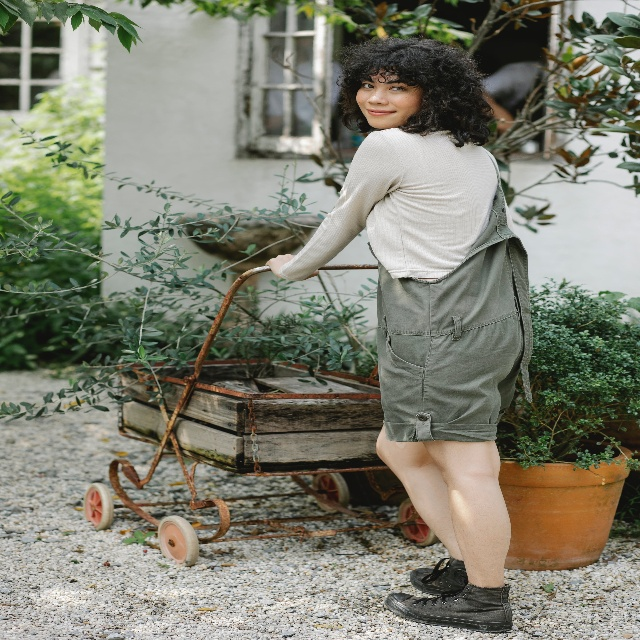Sin_guantes: (265, 253, 319, 280)
